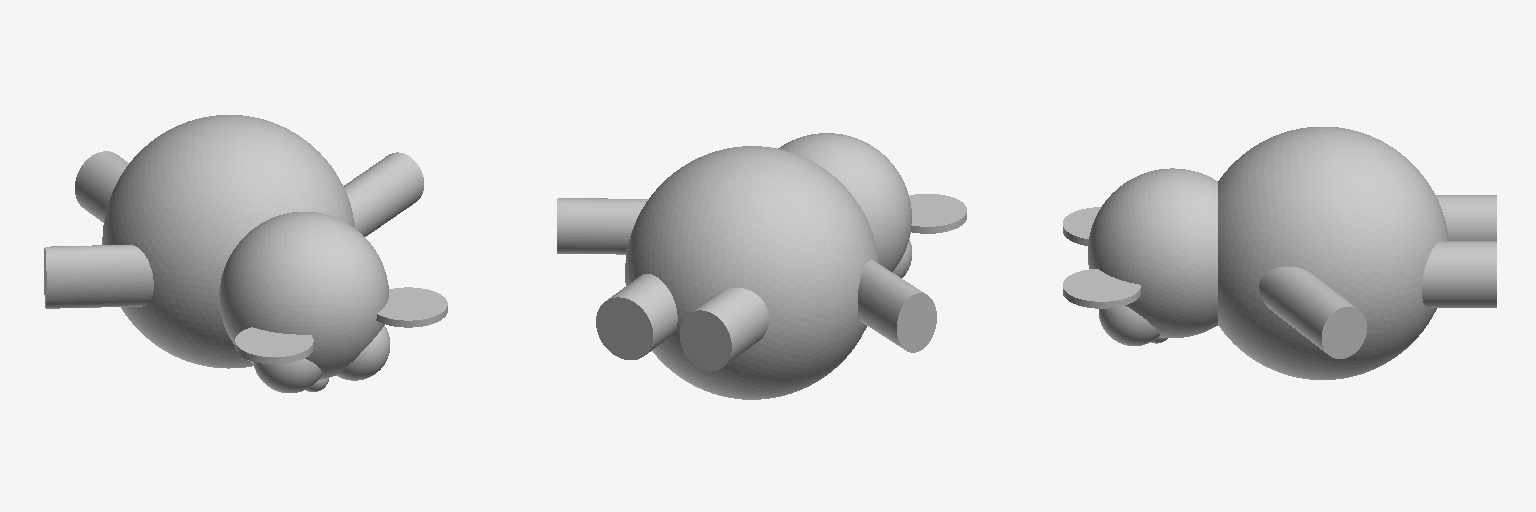
Rendered from barold_remade.obj.
The picture shows the model from 3 angles: view 1: azimuth 30°, elevation 25°; view 2: azimuth 150°, elevation 25°; view 3: azimuth 270°, elevation 25°; orthographic projection.
Visible parts, largest first — view 1: Object.2, Object.1, Object.5, Object.6, Object.3, Object.8, Object.7, Object.10, Object.11; view 2: Object.2, Object.1, Object.3, Object.4, Object.5, Object.6, Object.7; view 3: Object.2, Object.1, Object.6, Object.4, Object.3, Object.8, Object.11, Object.7.
Boxes of the visible parts, x1,y1,x2,y2 form: Object.2: [102, 115, 354, 368]; Object.1: [219, 212, 388, 379]; Object.5: [44, 245, 153, 308]; Object.6: [344, 152, 423, 236]; Object.3: [75, 151, 128, 222]; Object.8: [376, 287, 447, 327]; Object.7: [235, 327, 313, 363]; Object.10: [253, 358, 321, 392]; Object.11: [336, 325, 389, 380]; Object.2: [625, 146, 878, 399]; Object.1: [778, 133, 911, 271]; Object.3: [680, 288, 768, 371]; Object.4: [596, 274, 677, 359]; Object.5: [858, 259, 936, 352]; Object.6: [557, 198, 648, 254]; Object.7: [909, 194, 966, 233]; Object.2: [1218, 127, 1448, 379]; Object.1: [1088, 168, 1217, 337]; Object.6: [1259, 267, 1366, 358]; Object.4: [1422, 241, 1496, 307]; Object.3: [1436, 195, 1496, 240]; Object.8: [1063, 269, 1140, 308]; Object.11: [1099, 306, 1159, 345]; Object.7: [1063, 207, 1100, 245].
Size of the model in its own units: 90.06 by 52.35 by 89.69.